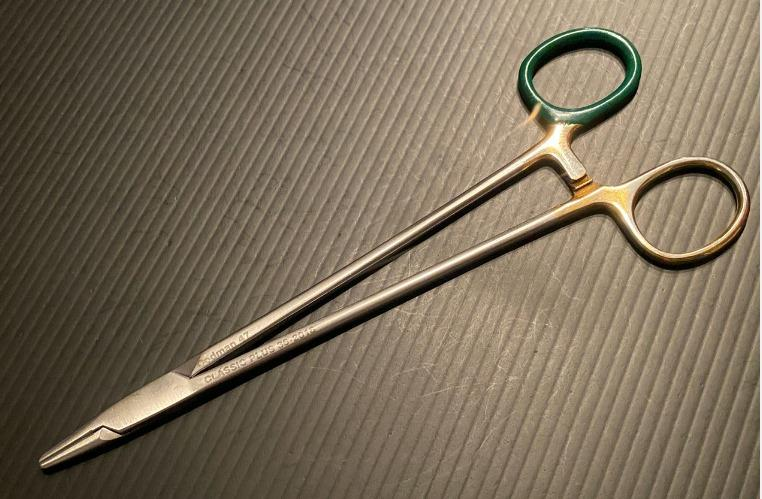Needle Holder: (25, 18, 752, 480)
